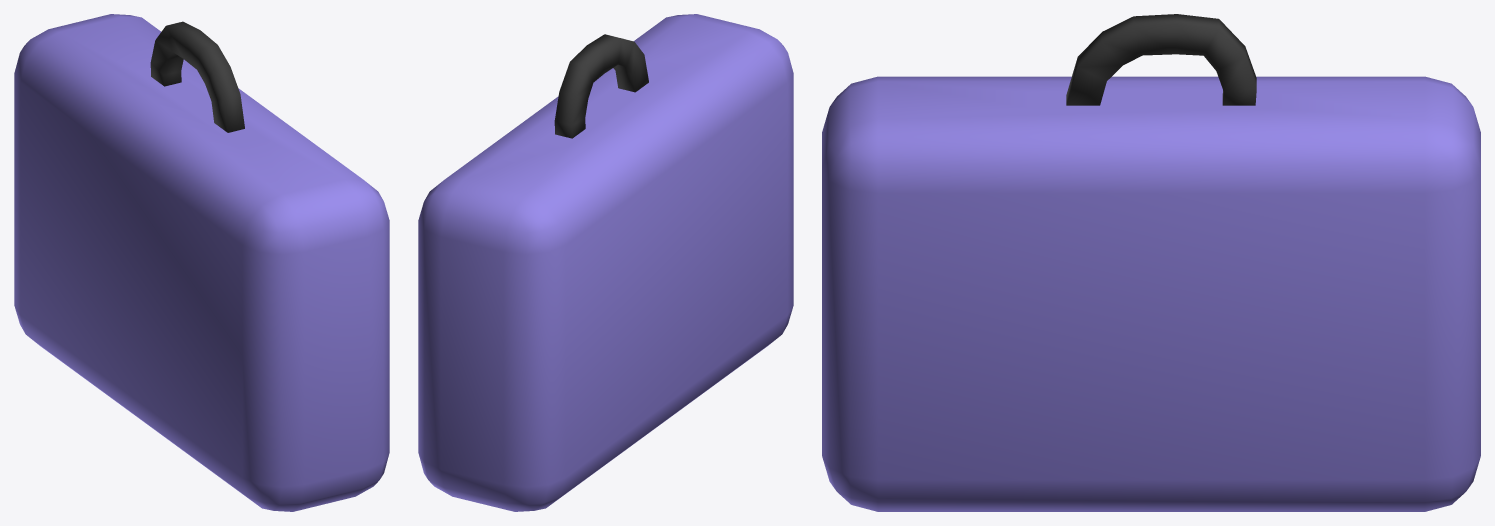
Rendered from bag.fbx.
3 renders of one model, left to right at view 1: azimuth 30°, elevation 25°; view 2: azimuth 150°, elevation 25°; view 3: azimuth 270°, elevation 25°, orthographic. The views are drawn at different scales.
Parts seen in each view (by area): view 1: bag; view 2: bag; view 3: bag.
Part boxes in pixels (x1,y1,x2,y2): bag: [14, 14, 389, 511]; bag: [418, 14, 793, 511]; bag: [822, 14, 1480, 511].
Size of the model in its own units: 25.27 by 65.1 by 82.89.
